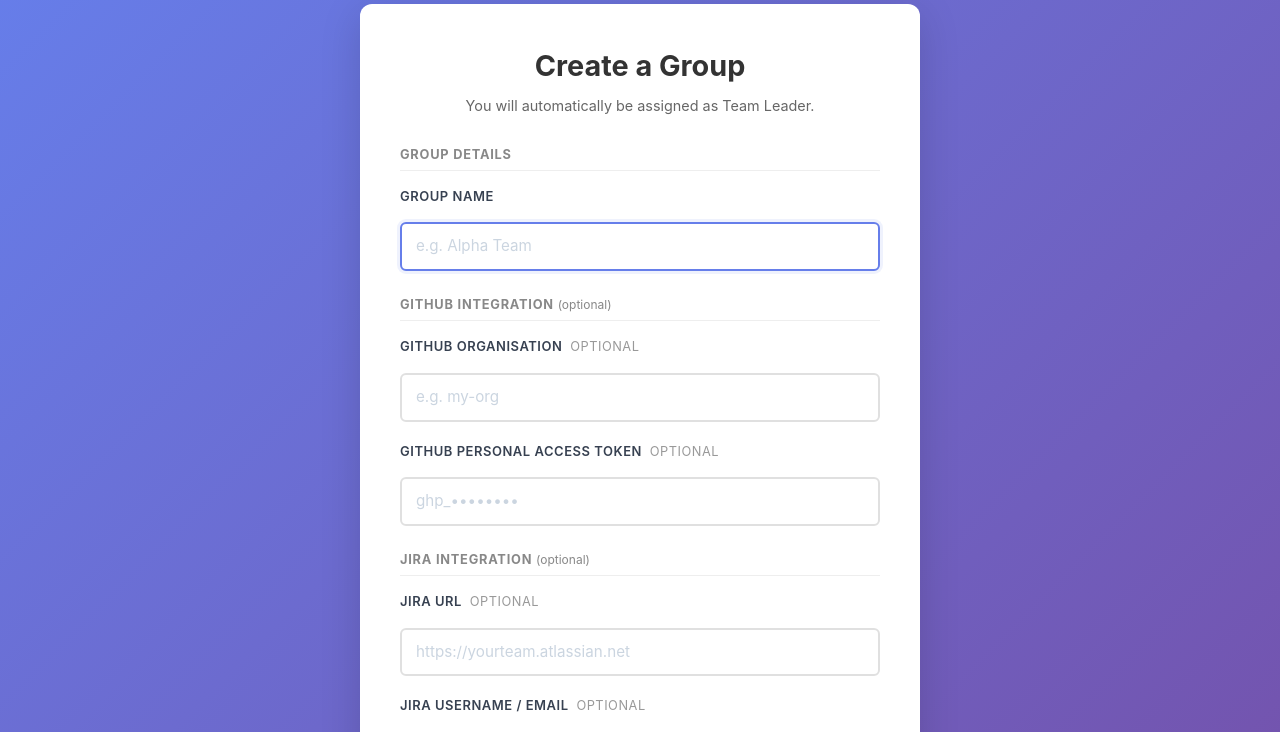
Test case: GroupCreationPage › Group Creation Form › shows loading state during submission
Step 1. Type "Test Group" into the field labelled "Group Name" → (640, 247), box [400, 222, 880, 271]
(page scrolled)
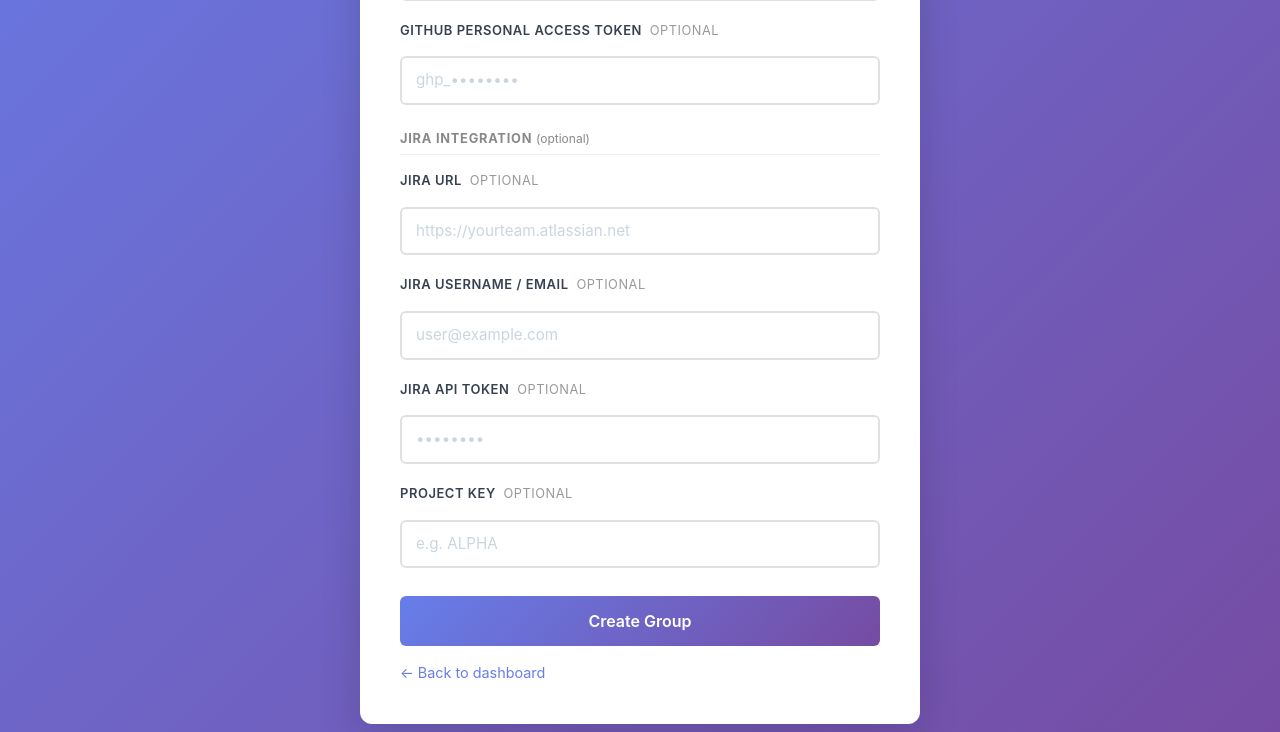
Step 2. Click the button "Create Group" → (640, 621), box [400, 596, 880, 646]
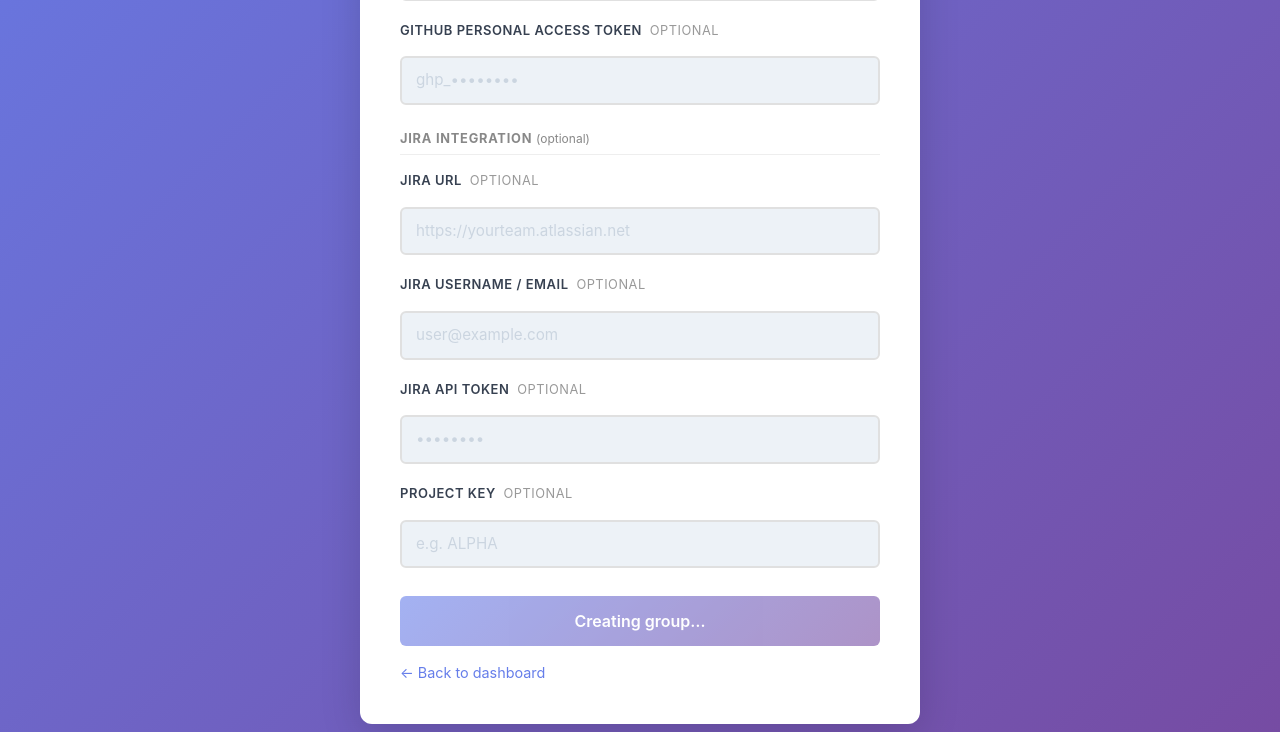
Expected: the button "Creating group…" is disabled, [400, 596, 880, 646]
